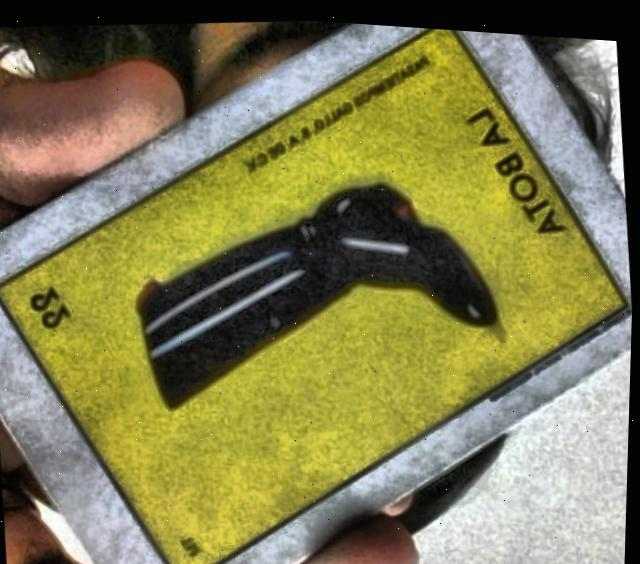La Bota: (0, 23, 631, 564)
